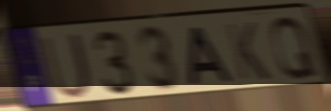3: (137, 22, 181, 96), (92, 29, 137, 98)
A: (187, 25, 235, 88)
K: (223, 20, 273, 82)
Q: (269, 14, 321, 82)
U: (38, 31, 94, 101)
